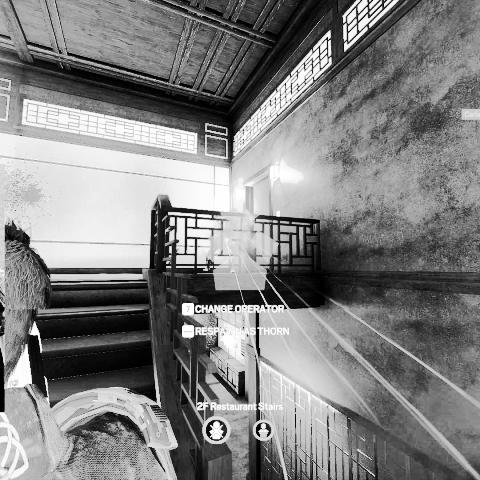Character: (0, 210, 175, 480), (203, 208, 241, 273)
Head: (0, 218, 49, 385)
